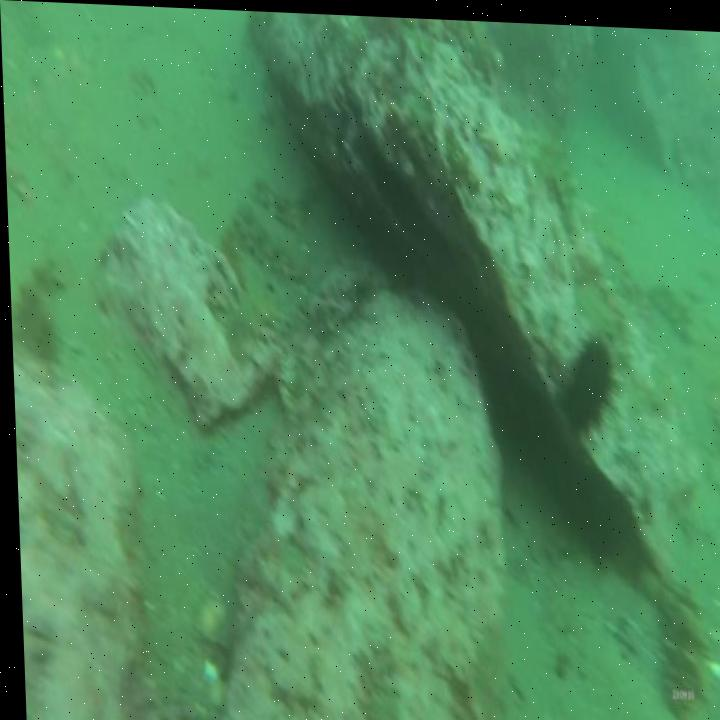echinus: (559, 325, 616, 441)
holothurian: (660, 570, 708, 718), (229, 195, 309, 272), (531, 131, 582, 232), (219, 274, 279, 356), (251, 163, 313, 220)
